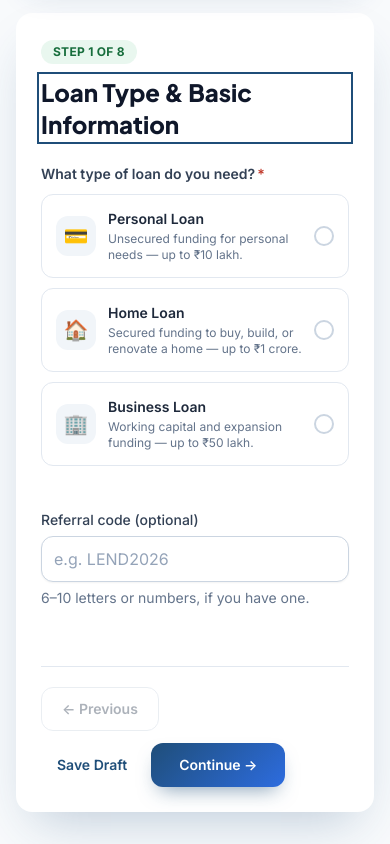
Test: Step validation › #4 shows Step 1 errors on empty submit
(page scrolled)
expect the heading "Loan Type & Basic Information" is shown: met, box [41,76,349,140]
What coordinates should you click on to do the following:
click the button "Continue →"
I would click on:
 (218, 765)
Its box is [151,743,285,787].
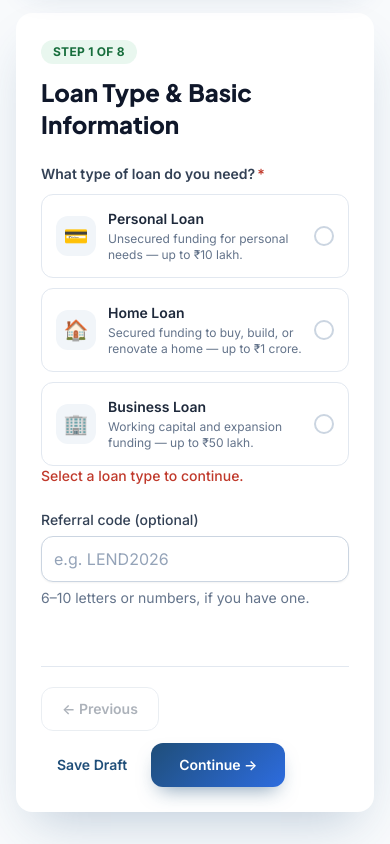
expect the text "Select a loan type to continue" is shown: met, box [41,467,244,484]
